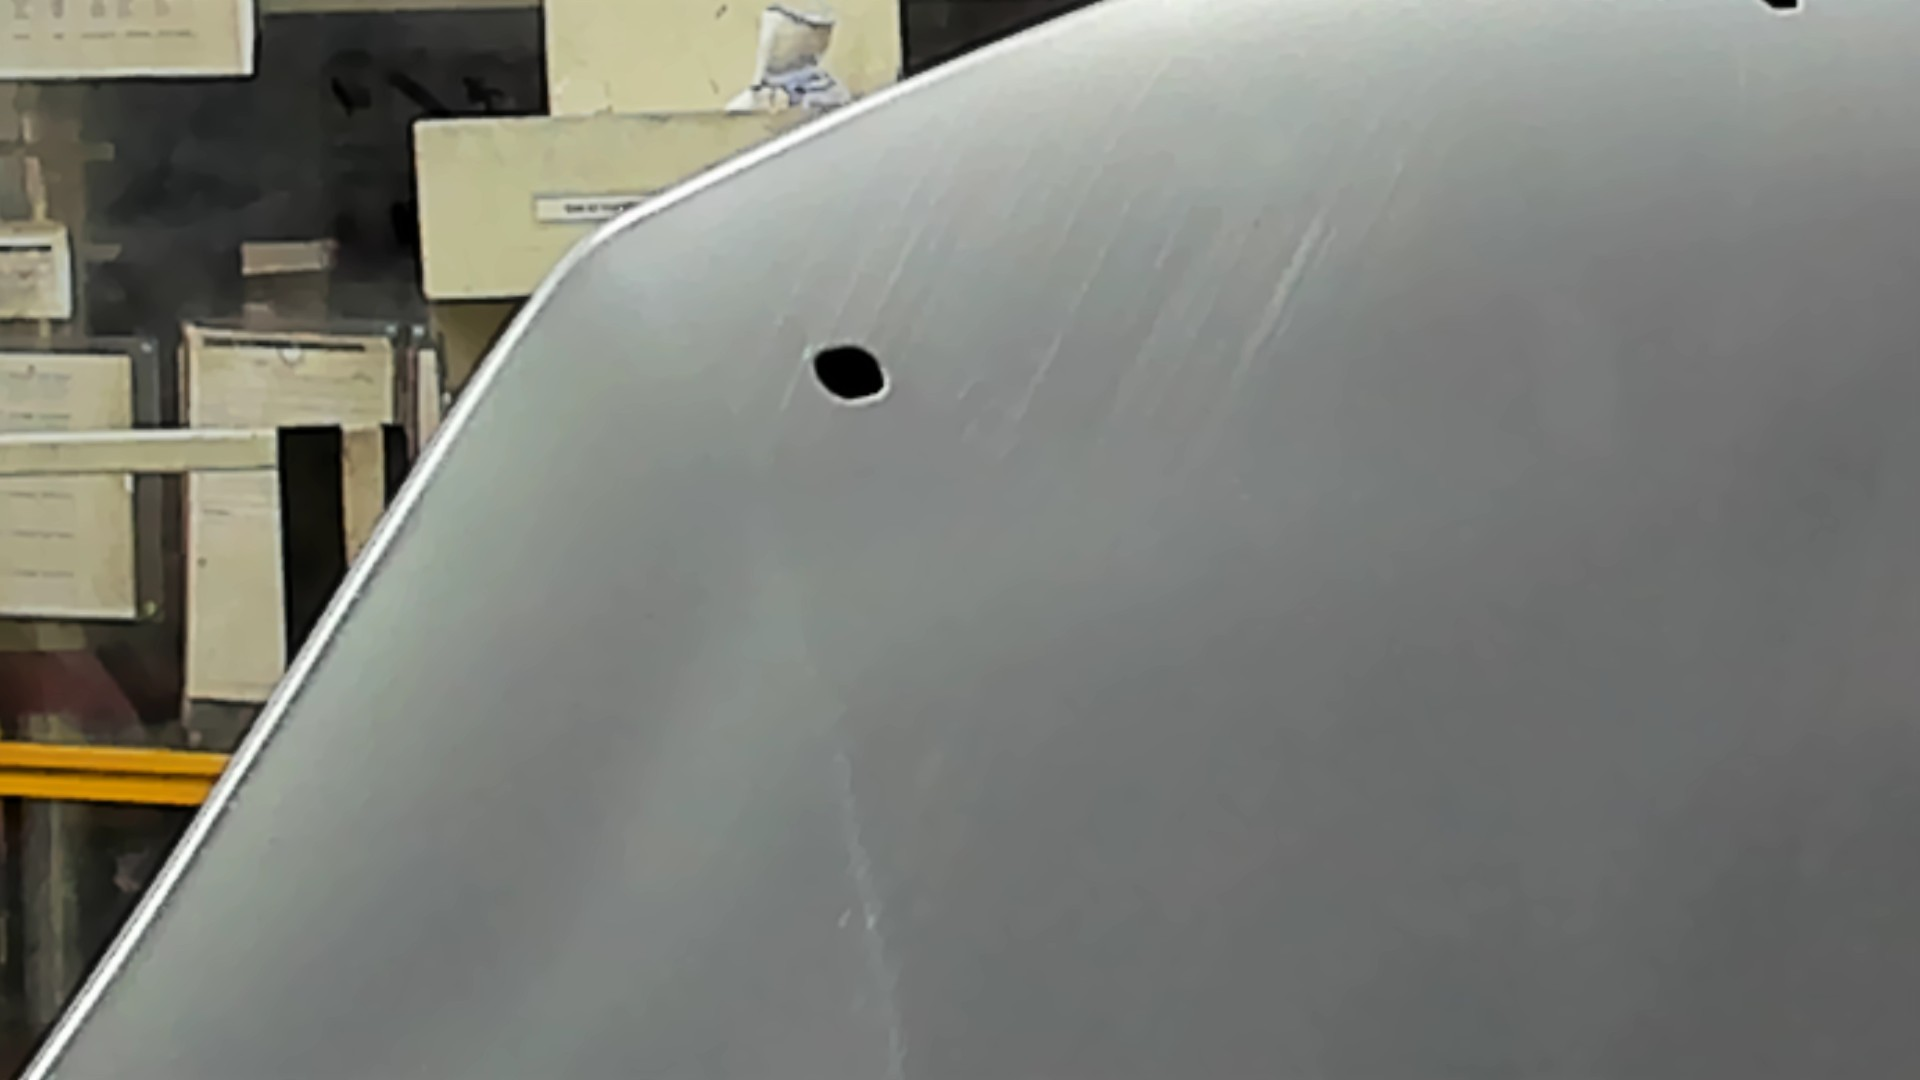amorfo: (804, 338, 897, 406), (1764, 1, 1809, 22)
